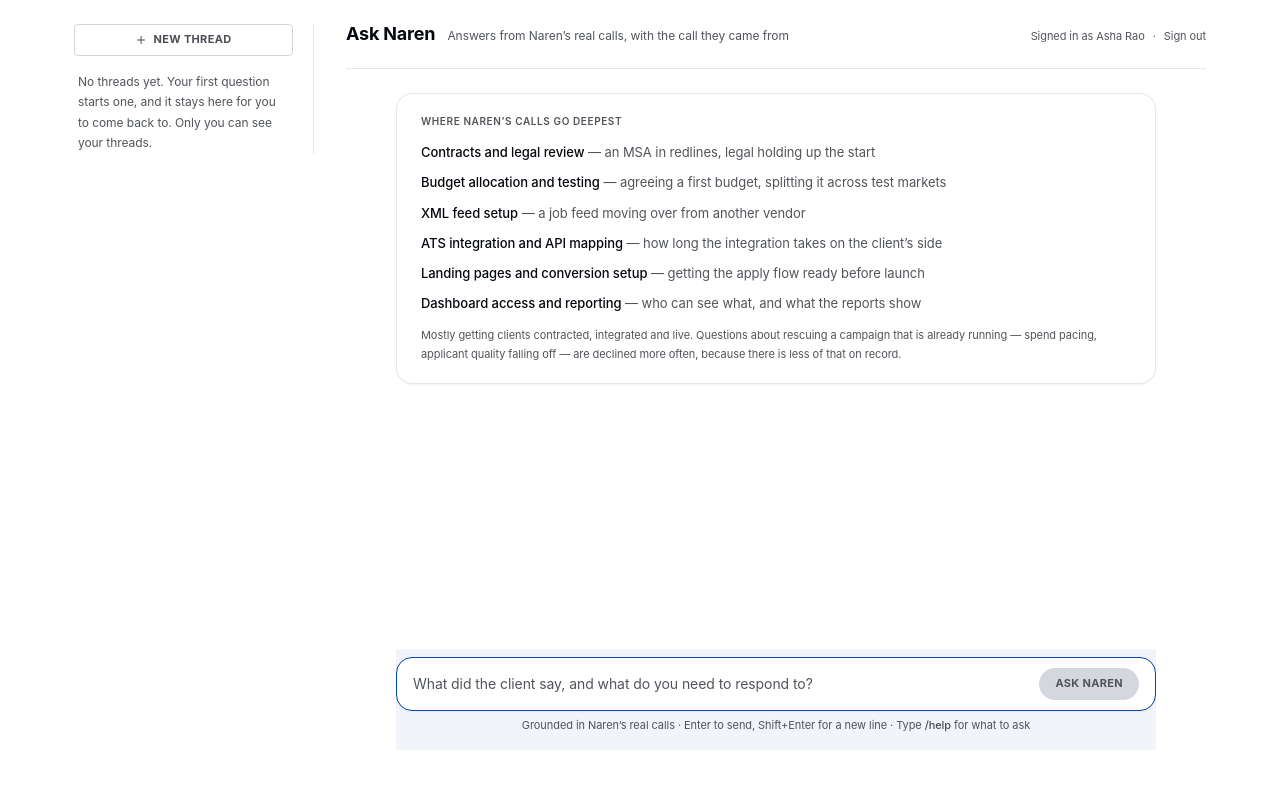
Test: AskNaren outcomes › renders a clarify response as the question prompt
The width and height of the screenshot is (1280, 800).
Type "applies are flat" into the text box named "The situation". click: coordinates (722, 684)
box: 413,668 -> 1031,700
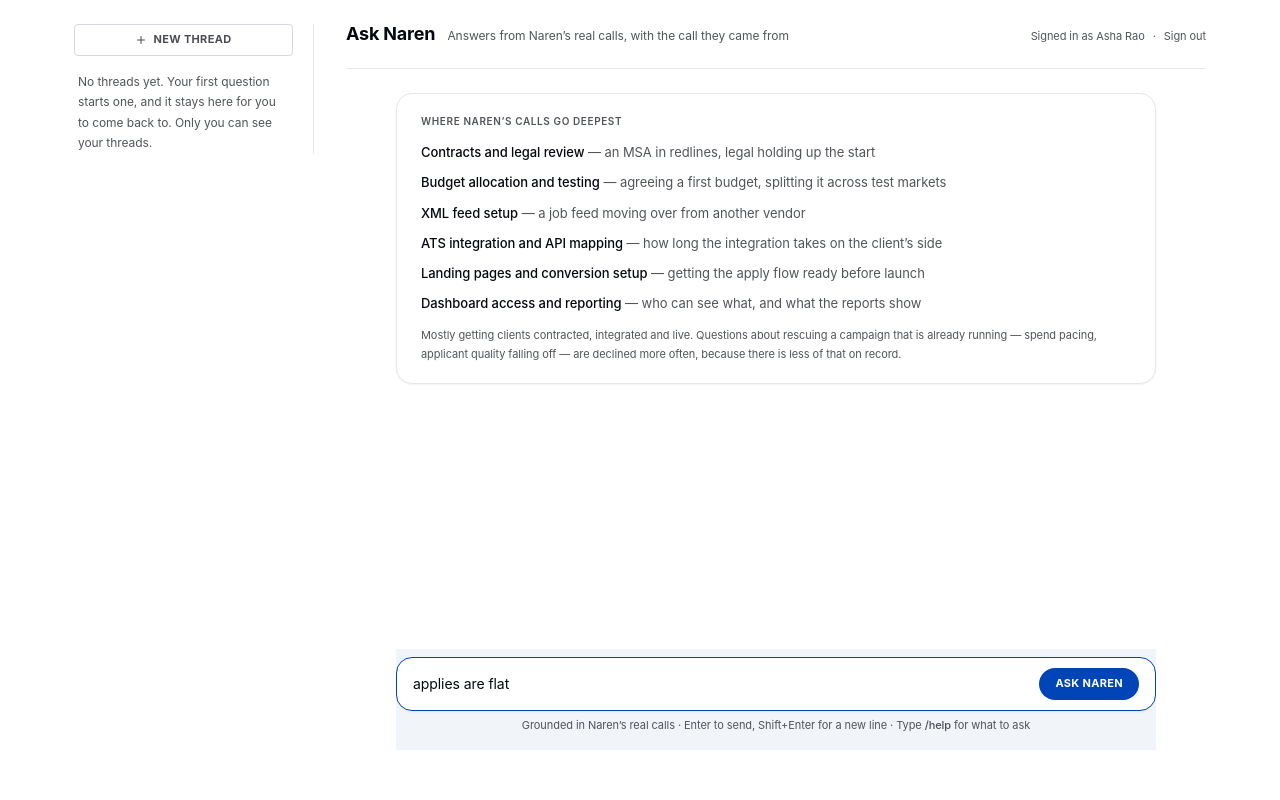
Click the button "Ask Naren". click: coordinates (1089, 684)
box: 1039,668 -> 1139,700
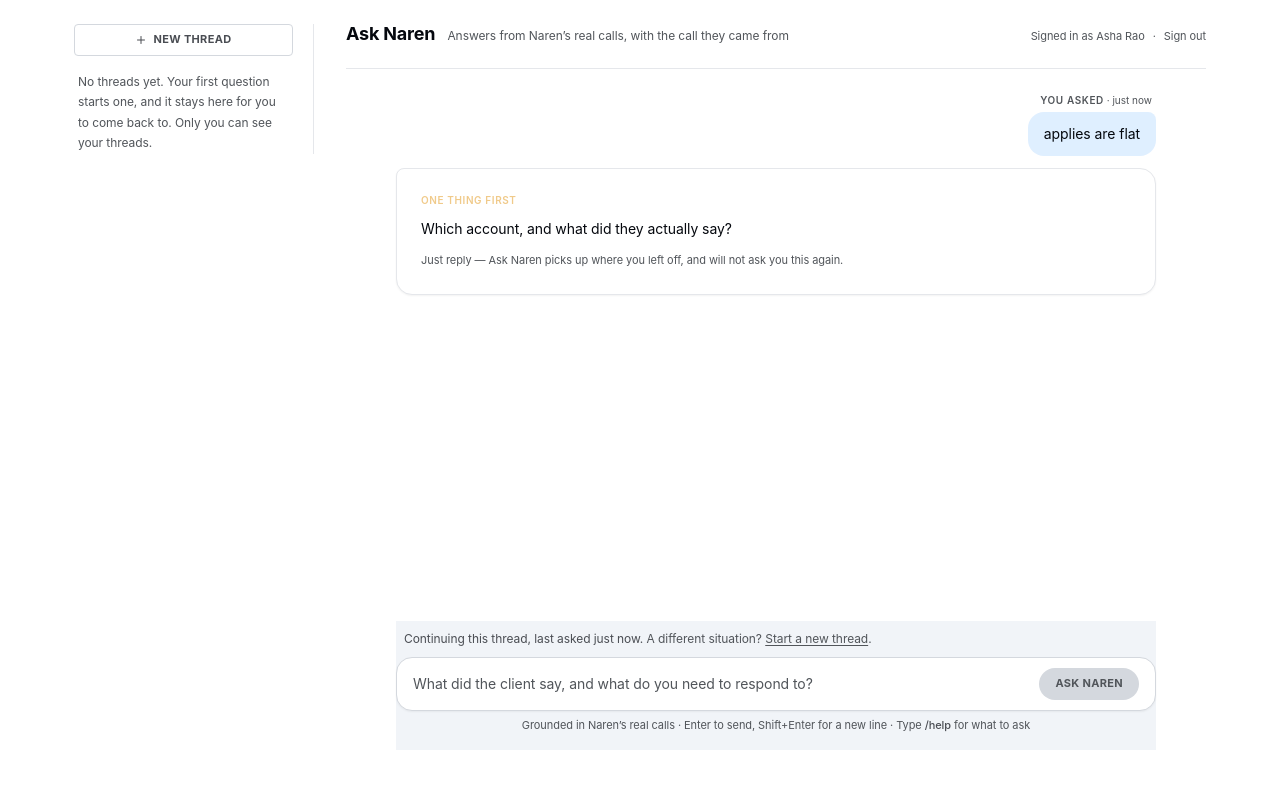
Expected: the text "One thing first" is shown, 421,194 -> 516,206
